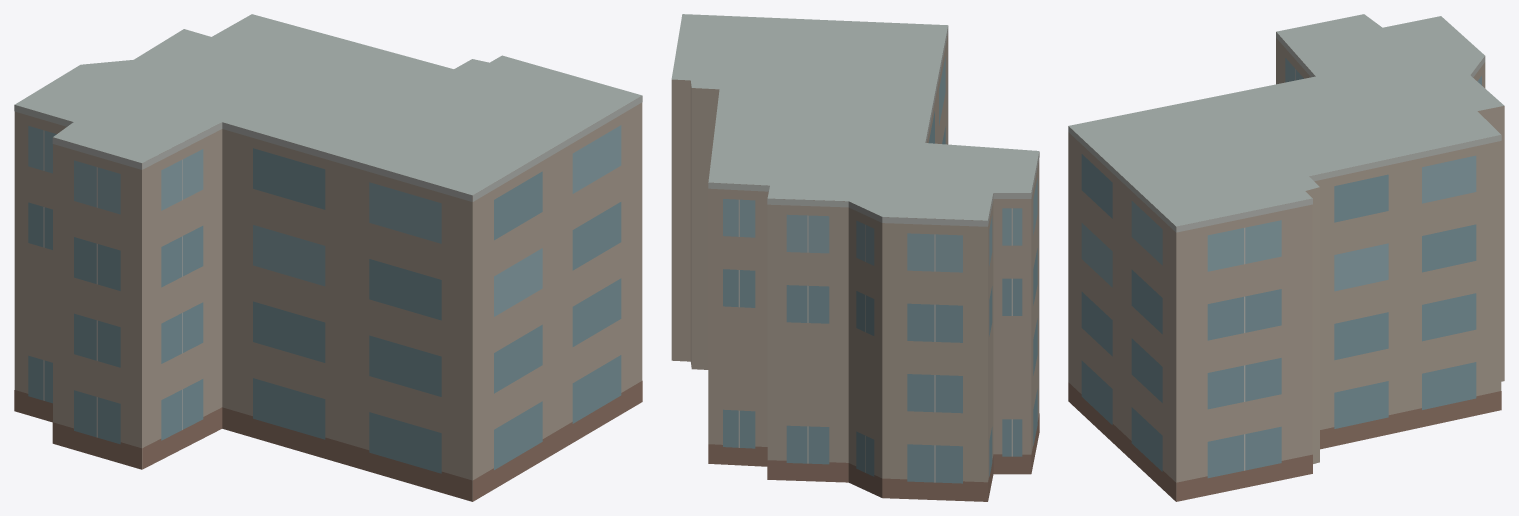
Rendered from survey-upis-32812666.glb.
3 views of the same model, side by side, from view 1: azimuth 30°, elevation 25°; view 2: azimuth 150°, elevation 25°; view 3: azimuth 270°, elevation 25° (orthographic). The views are drawn at different scales.
Parts seen in each view (by area): view 1: survey-upis-32812666.tmp; view 2: survey-upis-32812666.tmp; view 3: survey-upis-32812666.tmp.
Part boxes in pixels (box(x1,y1,x2,y2)): survey-upis-32812666.tmp: box(14, 14, 642, 501); survey-upis-32812666.tmp: box(671, 14, 1039, 501); survey-upis-32812666.tmp: box(1068, 14, 1504, 501).
Bounding box in the file's own units: 18.39 × 11.1 × 15.95.
